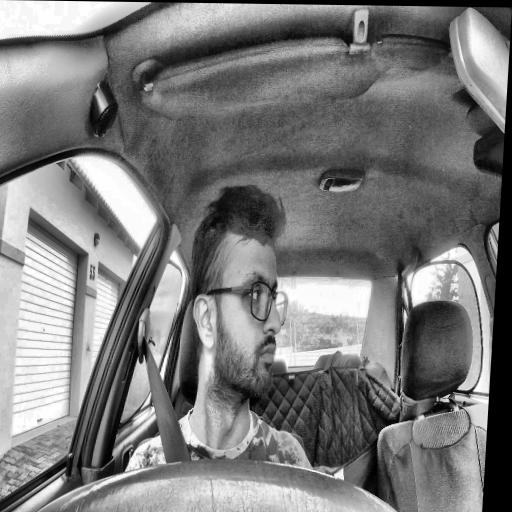awake: (181, 182, 297, 408)
